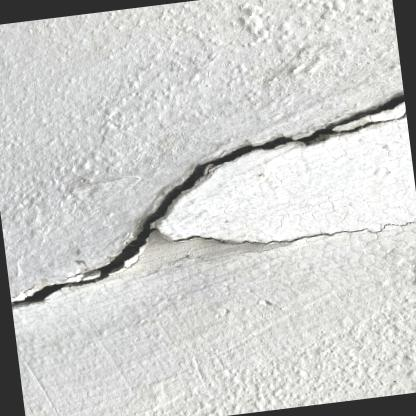crack: (10, 93, 404, 306), (173, 221, 414, 245), (340, 109, 406, 133)
